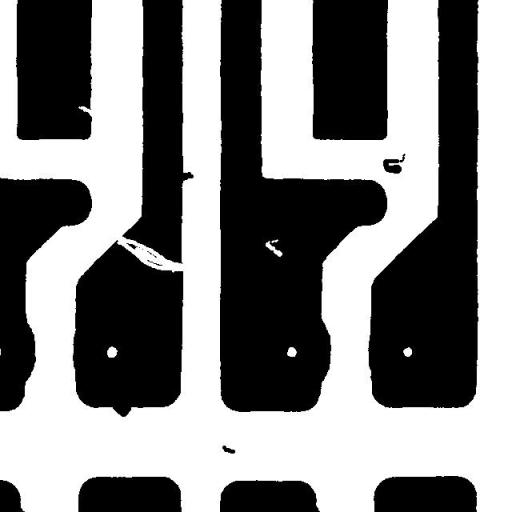copper: (375, 146, 413, 180), (214, 438, 242, 460)
mousebite: (70, 98, 104, 126)
open: (108, 226, 190, 280)
pin-hole: (258, 231, 290, 264)
spur: (105, 394, 138, 424), (169, 163, 201, 188)
